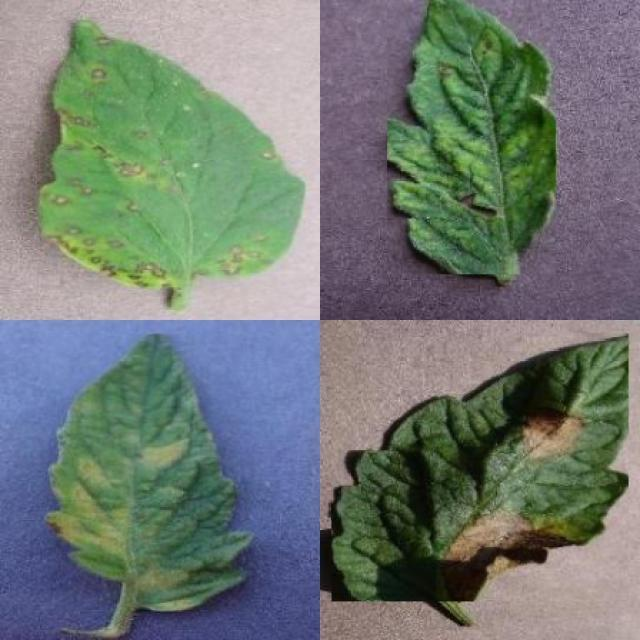Late Blight: (332, 334, 628, 602)
Leaf Mold: (47, 334, 254, 612)
Mosaic Virus: (387, 0, 555, 274)
Septoria: (37, 20, 306, 290)
